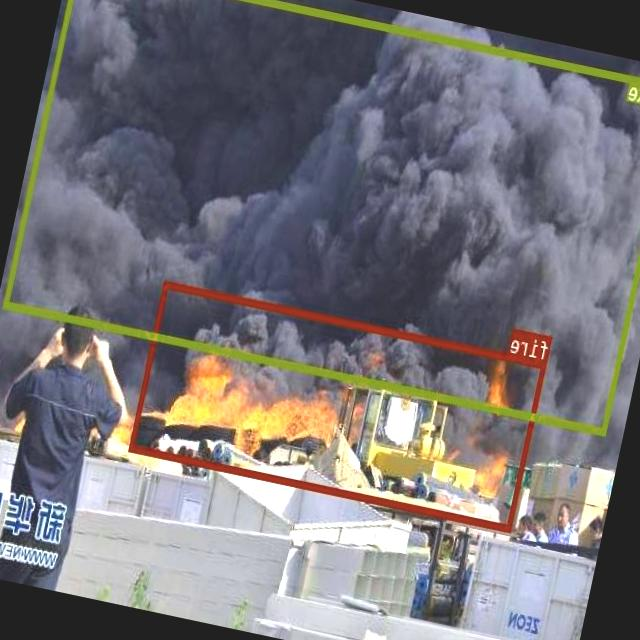fire: (130, 279, 548, 530)
smoke: (3, 0, 640, 435)
